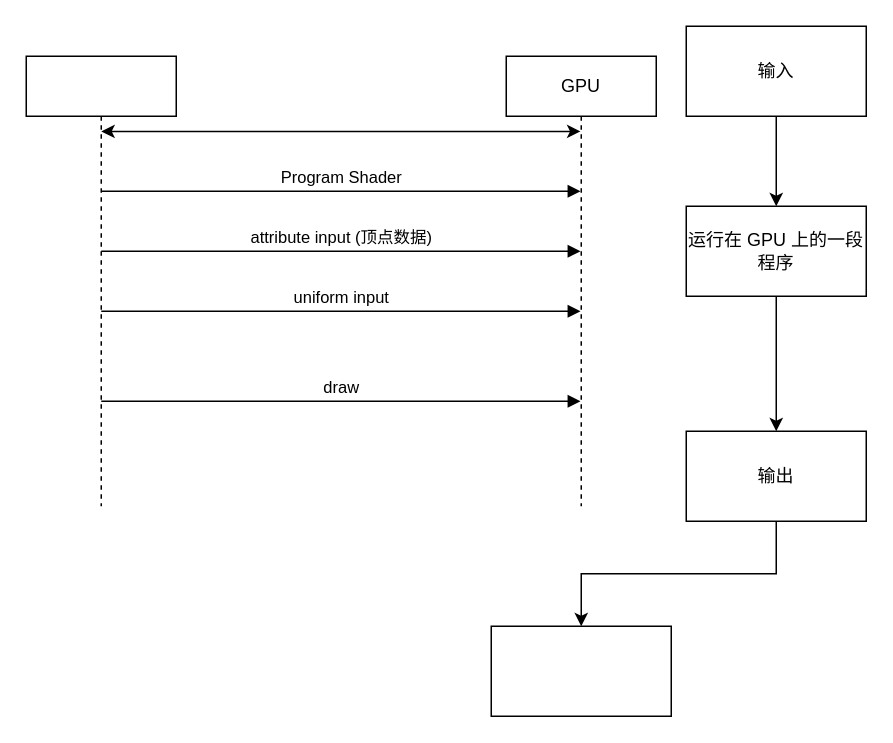
The diagram is 893 pixels wide and 743 high, and some of its shapes have lost their labels. The box of each missing label's shape, as (x1, y1, x2, y2) in pixels:
CPU: (25, 55, 176, 506)
FrameBuffer: (490, 625, 671, 716)
